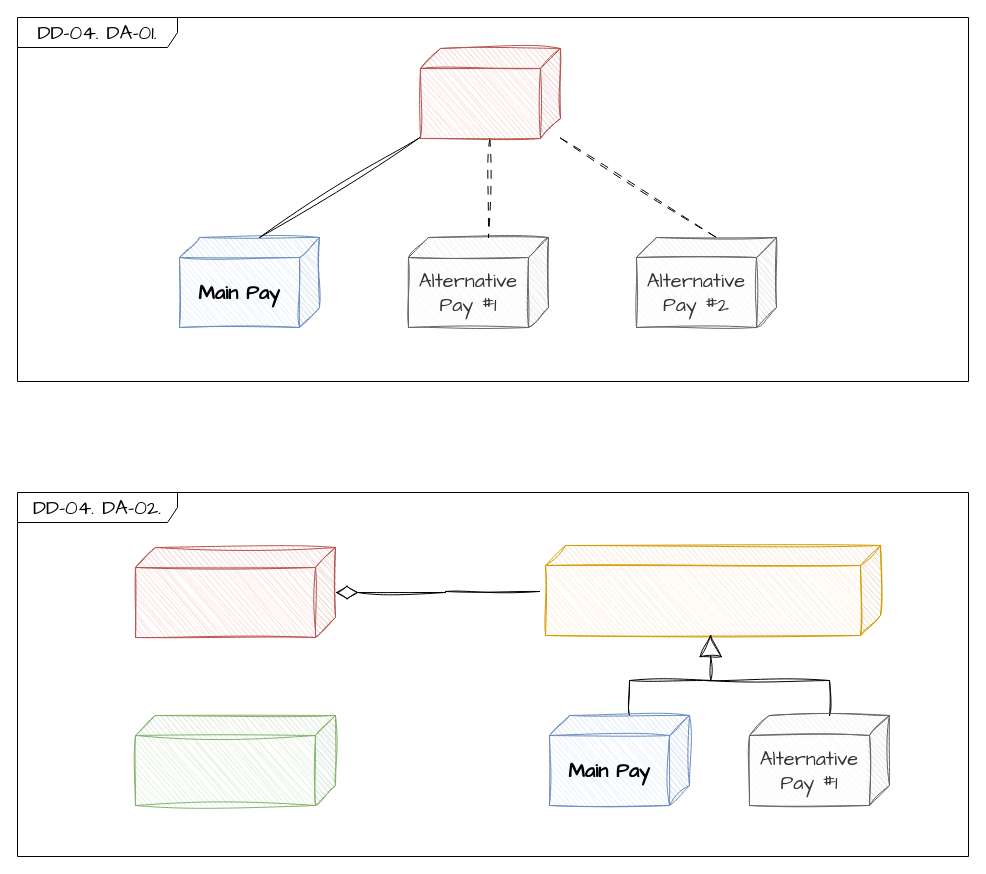
This 986x874 diagram has some shape labels left out. The shapes that lost their labels are listed below. From the top down, each one's centre as x and y in pixels, then its label:
At point (490, 93): "Wrapper Façade".
At point (235, 592): "Component Repository".
At point (712, 590): "Component".
At point (235, 760): "Component Configuration".
